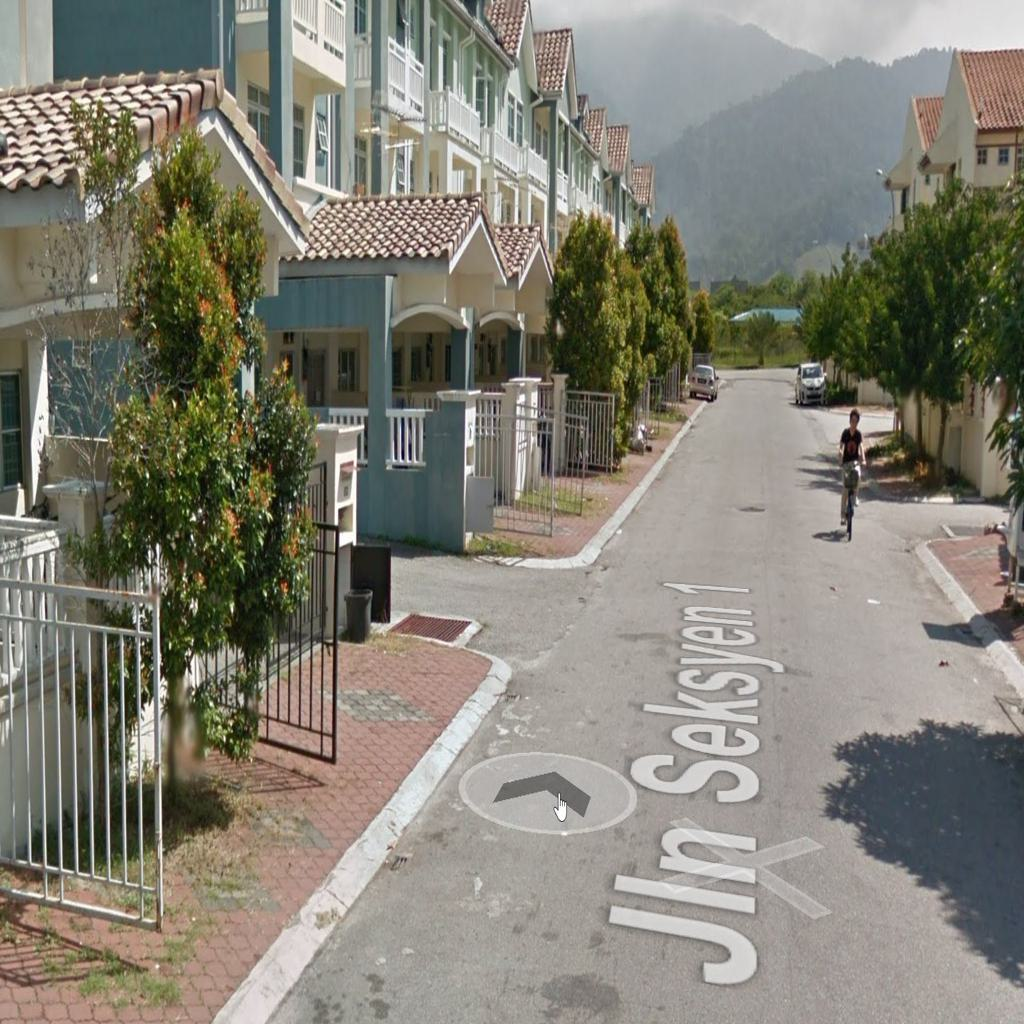Junction: (373, 519, 610, 716), (866, 462, 1009, 563)
